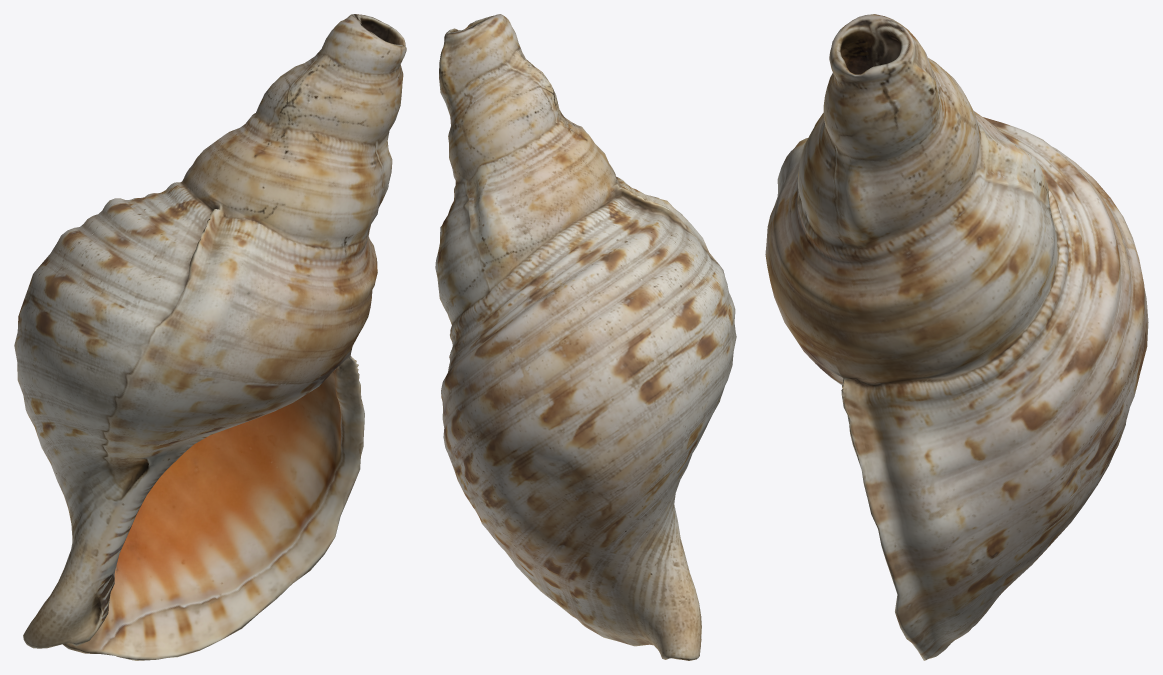
The model's file is SeaShell.fbx.
The picture shows the model from 3 angles, left to right: view 1: azimuth 30°, elevation 25°; view 2: azimuth 150°, elevation 25°; view 3: azimuth 270°, elevation 25°; orthographic projection. The views are drawn at different scales.
Parts seen in each view (by area): view 1: BB_13_001; view 2: BB_13_001; view 3: BB_13_001.
Part boxes in pixels (<box>): BB_13_001: <box>14,14,406,660</box>; BB_13_001: <box>435,14,736,660</box>; BB_13_001: <box>765,14,1148,660</box>.
Size of the model in its own units: 16.19 by 29.59 by 14.29.
